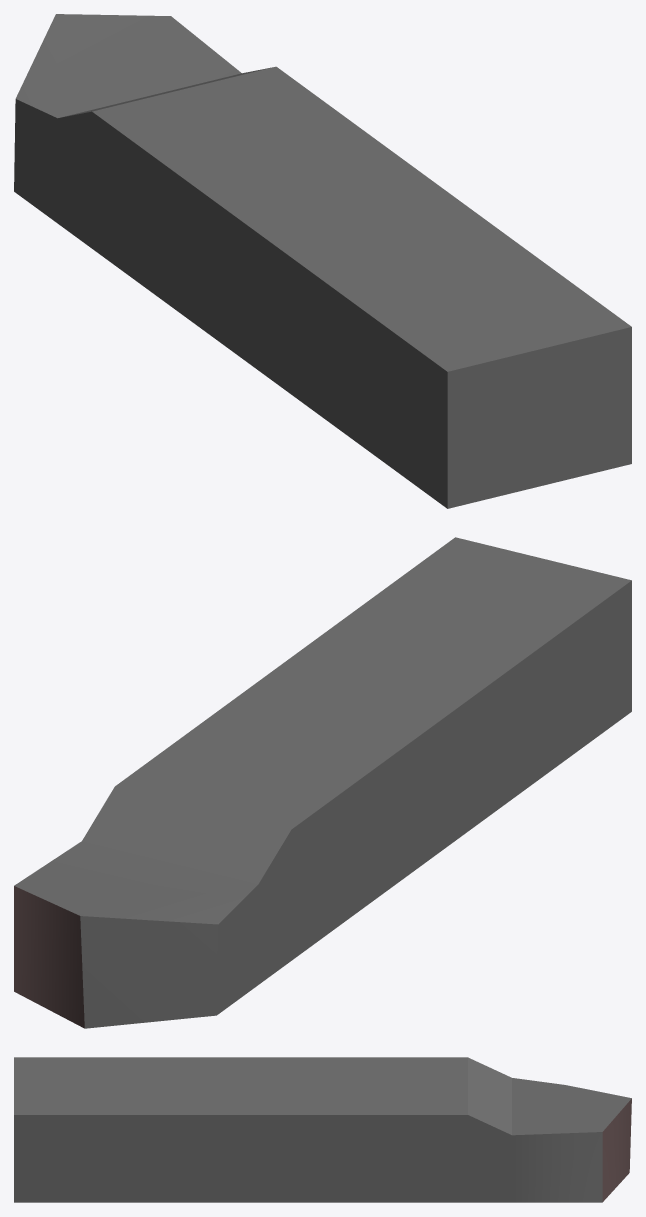
The model's file is renqinjiao01.FBX.
3 views of the same model, one above another, from view 1: azimuth 30°, elevation 25°; view 2: azimuth 150°, elevation 25°; view 3: azimuth 270°, elevation 25° (orthographic). The views are drawn at different scales.
Visible parts, largest first — view 1: 车刀构造; view 2: 车刀构造; view 3: 车刀构造.
Part boxes in pixels (<box>): 车刀构造: <box>14,14,631,508</box>; 车刀构造: <box>14,537,631,1028</box>; 车刀构造: <box>14,1057,631,1202</box>.
Size of the model in its own units: 19.45 by 88.4 by 13.82.
